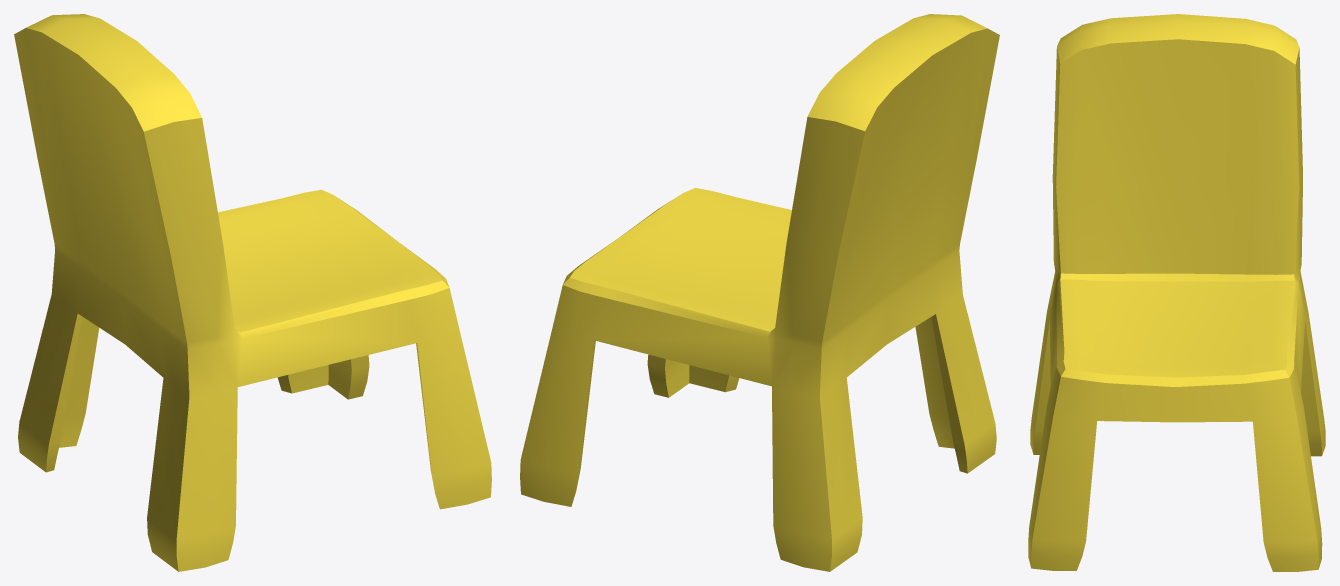
The model's file is NST_MiniChair.fbx.
The picture shows the model from 3 angles, left to right: view 1: azimuth 30°, elevation 25°; view 2: azimuth 150°, elevation 25°; view 3: azimuth 270°, elevation 25°; orthographic projection. The views are drawn at different scales.
Visible parts, largest first — view 1: NST_MiniChair; view 2: NST_MiniChair; view 3: NST_MiniChair.
Boxes of the visible parts, <box> form: NST_MiniChair: <box>14,14,491,571</box>; NST_MiniChair: <box>520,14,999,571</box>; NST_MiniChair: <box>1028,14,1325,571</box>.
Size of the model in its own units: 55.73 by 73.11 by 47.47.
